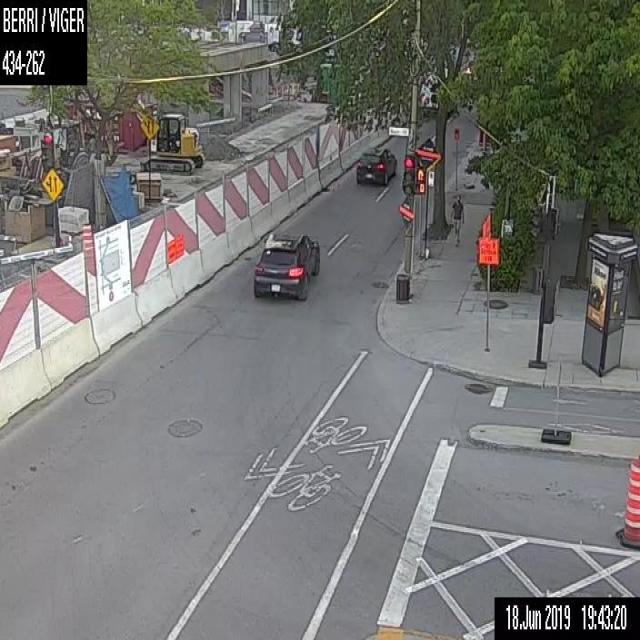construction: (475, 218, 501, 351), (614, 457, 639, 548), (80, 222, 94, 254)
pedestrian: (448, 192, 464, 245)
vehicle: (252, 230, 319, 298), (354, 146, 396, 186)
